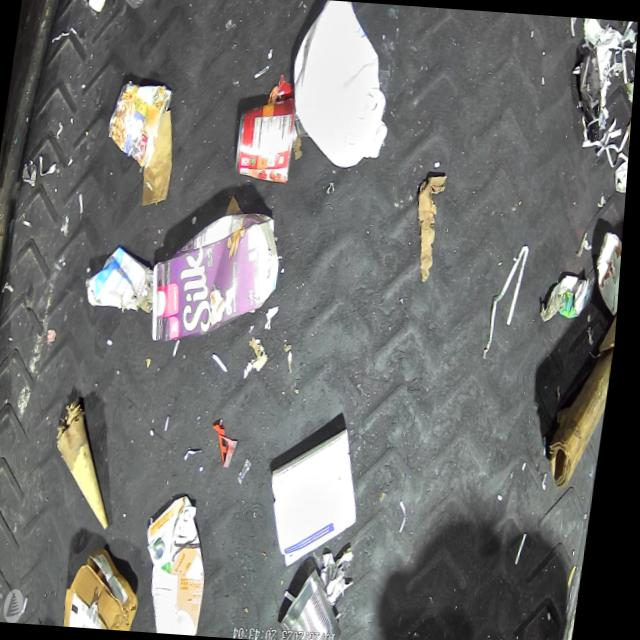can: (104, 80, 175, 170), (233, 94, 302, 186), (286, 566, 360, 640), (594, 231, 627, 316)
milk_jug: (281, 0, 406, 171)
non_white_jug: (148, 202, 290, 348), (143, 490, 227, 636)
